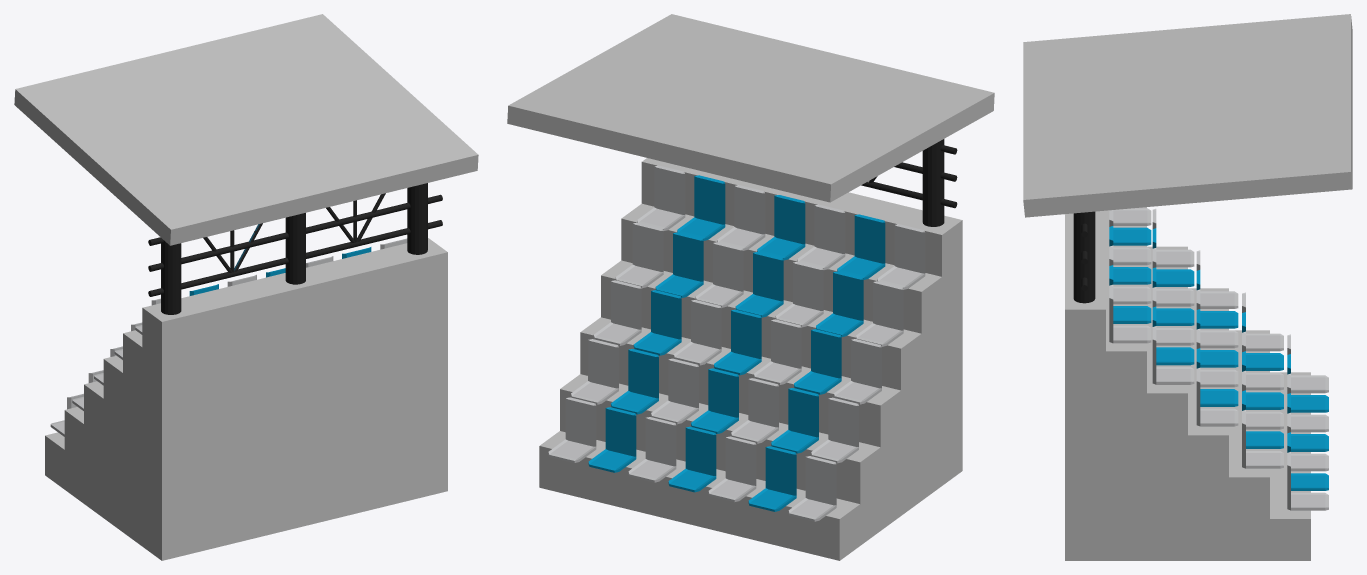
The model's file is stand.fbx.
The picture shows the model from 3 angles, left to right: view 1: azimuth 30°, elevation 25°; view 2: azimuth 150°, elevation 25°; view 3: azimuth 270°, elevation 25°; orthographic projection. The views are drawn at different scales.
Parts seen in each view (by area): view 1: Cube.052; view 2: Cube.052; view 3: Cube.052.
Part boxes in pixels (x1,y1,x2,y2): Cube.052: (14, 14, 478, 560); Cube.052: (507, 14, 994, 560); Cube.052: (1023, 14, 1352, 560).
Size of the model in its own units: 1616 by 1883 by 1425.
